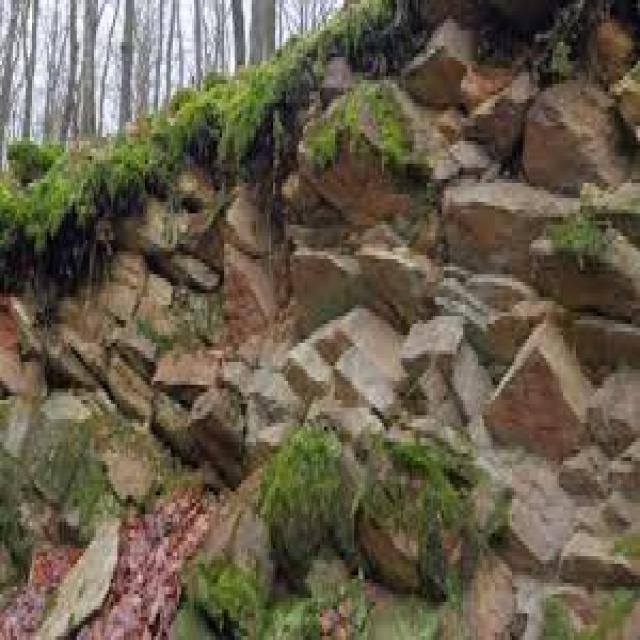Metamorphic: (273, 4, 634, 632)
